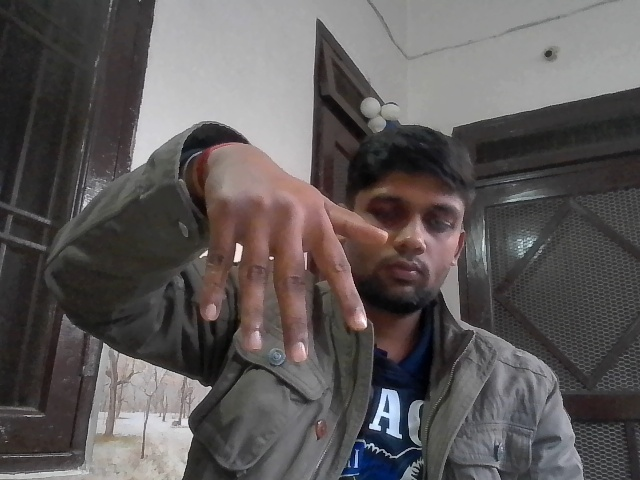HowAreYou: (191, 154, 396, 366)
